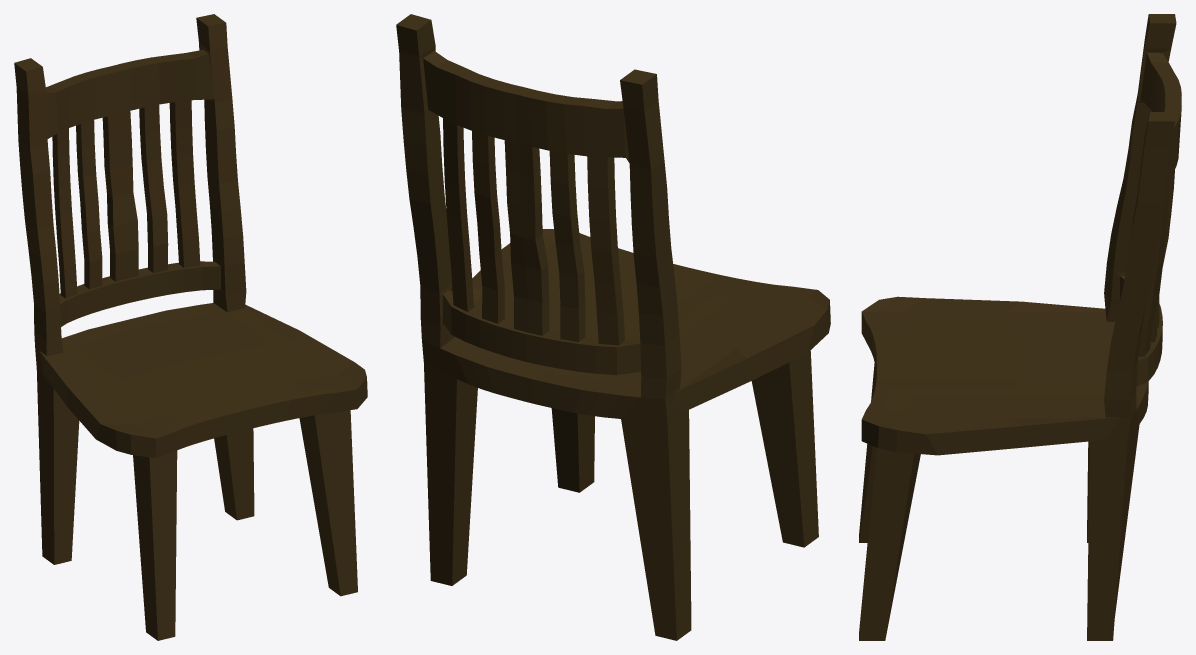
The model's file is chair2.0.fbx.
3 views of the same model, side by side, from view 1: azimuth 30°, elevation 25°; view 2: azimuth 150°, elevation 25°; view 3: azimuth 270°, elevation 25° (orthographic). The views are drawn at different scales.
Parts seen in each view (by area): view 1: Cube; view 2: Cube; view 3: Cube.
Part boxes in pixels (x1=…): Cube: x1=14, y1=14, x2=367, y2=640; Cube: x1=396, y1=14, x2=830, y2=640; Cube: x1=859, y1=14, x2=1181, y2=640.
Bounding box in the file's own units: 142 × 253 × 142.
